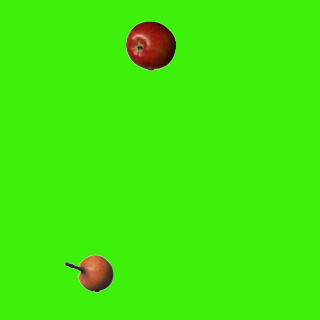Apple Braeburn: (125, 20, 175, 70)
Granadilla: (63, 248, 113, 298)
